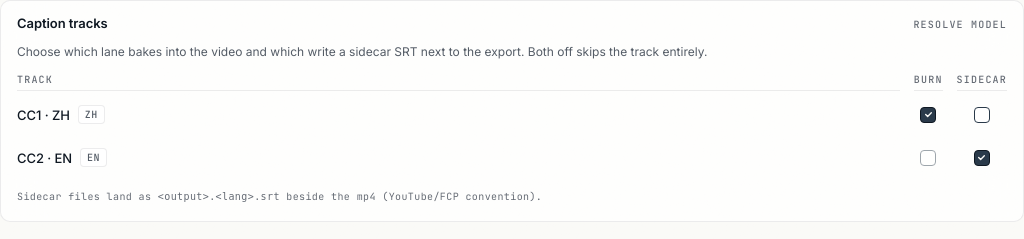
Test: CaptionTracksSection — Sidecar toggle independence › checking Sidecar on the burned row strips the burn (Resolve invariant)
Note: Row 1 starts burned. Sidecar'ing it should clear the burn.
Click the checkbox with test id "sidecar-trk_t0000001" at (982, 114), box [974, 106, 990, 122]
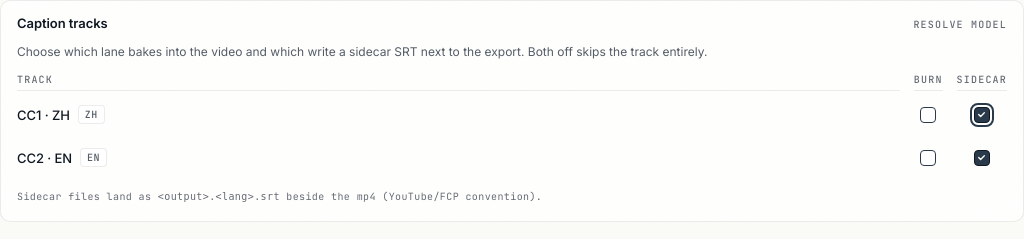
Result: the checkbox with test id "sidecar-trk_t0000001" is checked at [974, 106, 990, 122]
Result: the checkbox with test id "burn-trk_t0000001" is not checked at [920, 106, 936, 122]
